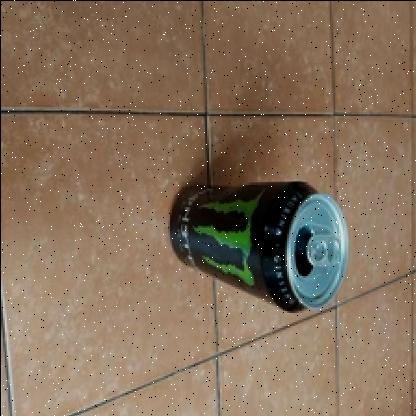Can: (150, 133, 373, 327)
